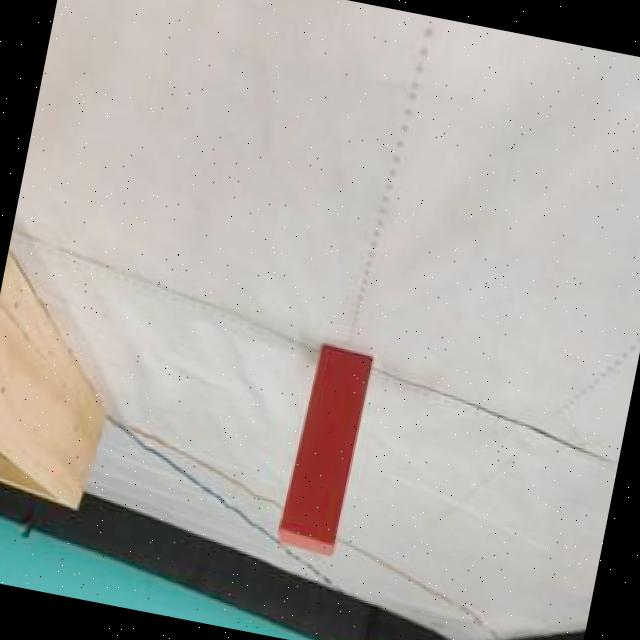redbox: (273, 342, 375, 560)
